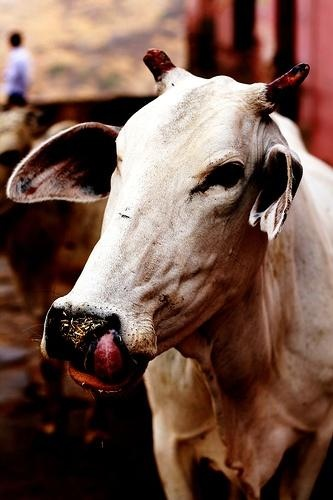cow: (8, 46, 333, 500)
